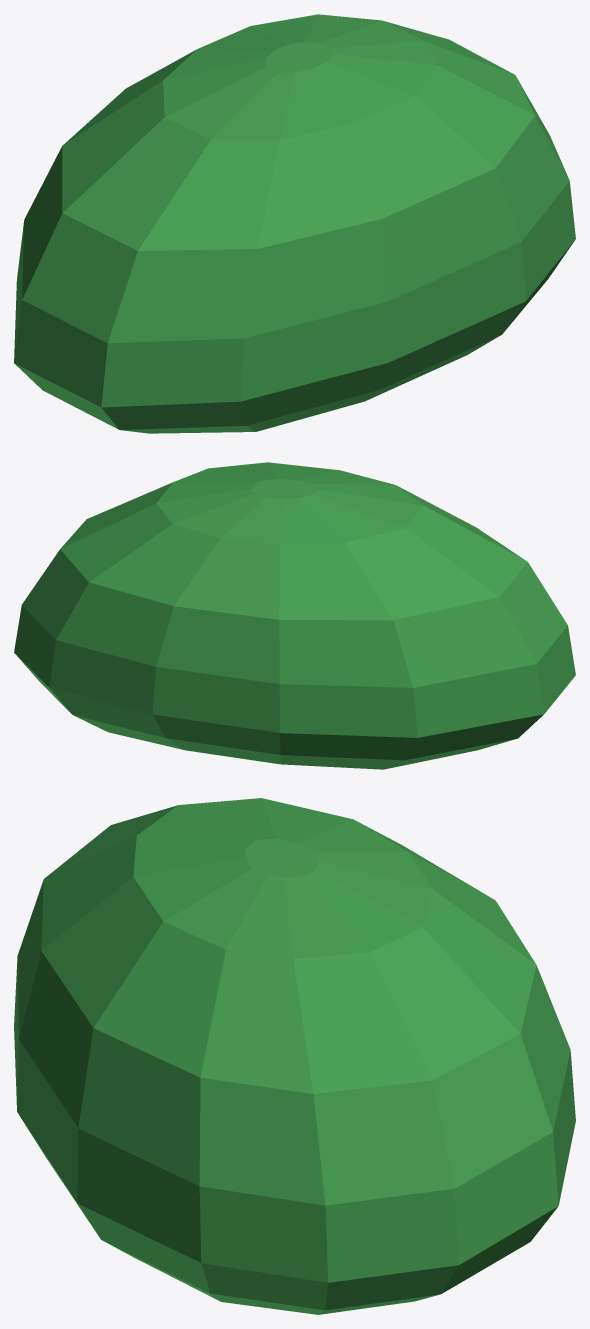
The model's file is Bush.fbx.
The picture shows the model from 3 angles, top to bottom: view 1: azimuth 30°, elevation 25°; view 2: azimuth 150°, elevation 25°; view 3: azimuth 270°, elevation 25°; orthographic projection. The views are drawn at different scales.
Visible parts, largest first — view 1: Bush; view 2: Bush; view 3: Bush.
Part boxes in pixels (<box>): Bush: <box>14,14,575,433</box>; Bush: <box>14,462,575,769</box>; Bush: <box>14,798,575,1314</box>.
Bounding box in the file's own units: 693 × 323 × 482.
